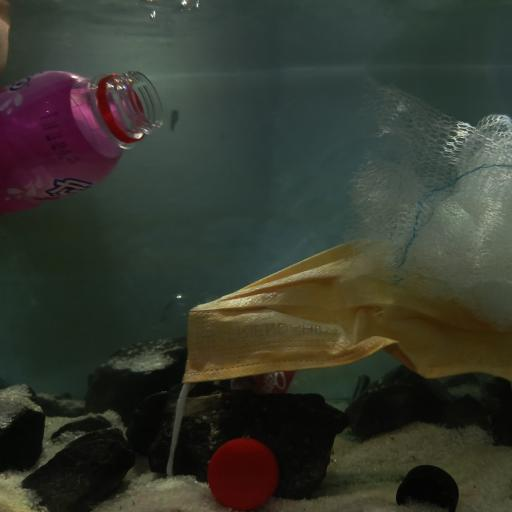bottle_cap: (205, 436, 280, 510), (394, 462, 460, 512)
mask: (172, 234, 512, 420)
net: (346, 77, 512, 335)
plastic_bottle: (156, 289, 370, 411), (0, 68, 166, 214)
